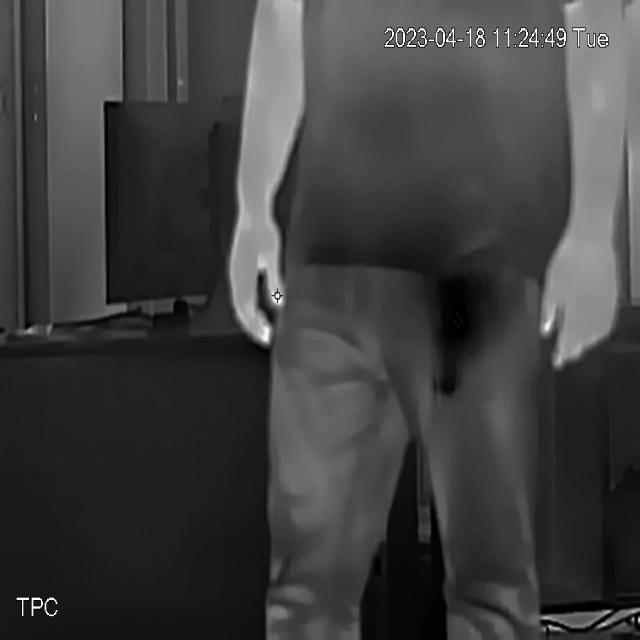Weapon: (426, 254, 496, 406)
